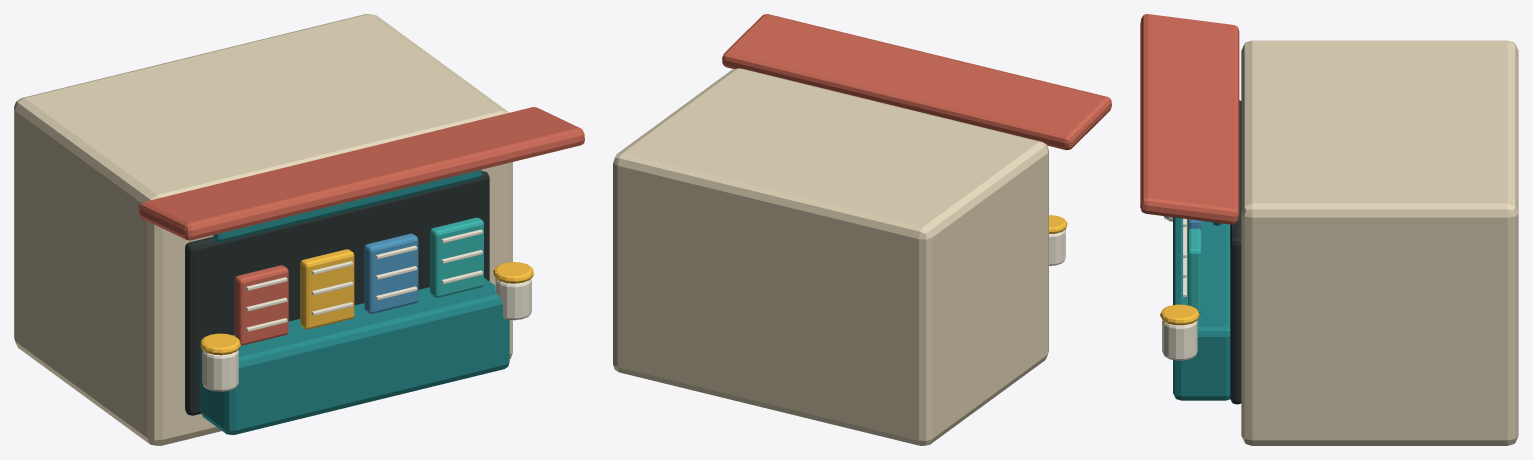
File: mamashop-v2.glb
3 views of the same model, side by side, from view 1: azimuth 30°, elevation 25°; view 2: azimuth 150°, elevation 25°; view 3: azimuth 270°, elevation 25° (orthographic). The views are drawn at different scales.
Visible parts, largest first — view 1: MAMA SHOP KIT · Warm plaster, MAMA SHOP KIT · Deep teal, MAMA SHOP KIT · Terracotta, MAMA SHOP KIT · Ink, MAMA SHOP KIT · Chalk, MAMA SHOP KIT · Signal yellow, MAMA SHOP KIT · Utility blue, MAMA SHOP KIT · Weathered teal; view 2: MAMA SHOP KIT · Warm plaster, MAMA SHOP KIT · Terracotta, MAMA SHOP KIT · Chalk; view 3: MAMA SHOP KIT · Warm plaster, MAMA SHOP KIT · Terracotta, MAMA SHOP KIT · Deep teal, MAMA SHOP KIT · Ink, MAMA SHOP KIT · Chalk, MAMA SHOP KIT · Weathered teal, MAMA SHOP KIT · Signal yellow.
Part boxes in pixels (box(x1,y1,x2,y2)): MAMA SHOP KIT · Warm plaster: box(14, 14, 512, 445); MAMA SHOP KIT · Deep teal: box(200, 169, 509, 434); MAMA SHOP KIT · Terracotta: box(139, 107, 584, 345); MAMA SHOP KIT · Ink: box(185, 171, 489, 415); MAMA SHOP KIT · Chalk: box(202, 229, 531, 391); MAMA SHOP KIT · Signal yellow: box(200, 249, 533, 355); MAMA SHOP KIT · Utility blue: box(364, 233, 418, 313); MAMA SHOP KIT · Weathered teal: box(430, 217, 483, 297); MAMA SHOP KIT · Warm plaster: box(613, 68, 1048, 445); MAMA SHOP KIT · Terracotta: box(722, 14, 1111, 150); MAMA SHOP KIT · Chalk: box(1049, 229, 1065, 265); MAMA SHOP KIT · Warm plaster: box(1241, 40, 1518, 445); MAMA SHOP KIT · Terracotta: box(1140, 14, 1239, 224); MAMA SHOP KIT · Deep teal: box(1173, 217, 1230, 400); MAMA SHOP KIT · Ink: box(1230, 100, 1241, 404); MAMA SHOP KIT · Chalk: box(1162, 216, 1197, 360); MAMA SHOP KIT · Weathered teal: box(1188, 228, 1201, 313); MAMA SHOP KIT · Signal yellow: box(1160, 219, 1199, 325).
Bounding box in the file's own units: 4.5 × 2.88 × 3.82.
